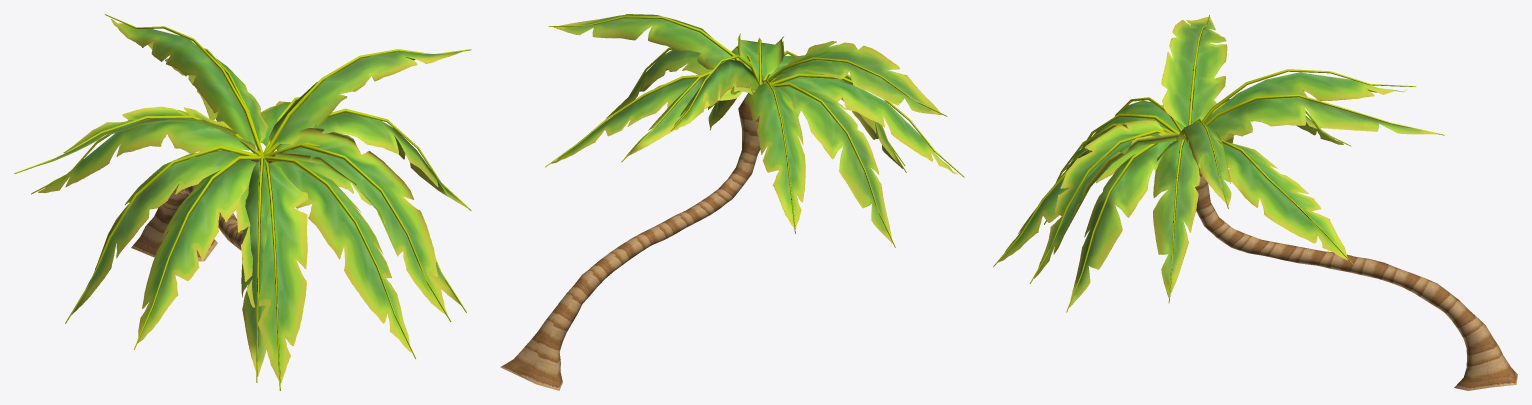
File: SM_PalmTree_var4.fbx
The picture shows the model from 3 angles, left to right: view 1: azimuth 30°, elevation 25°; view 2: azimuth 150°, elevation 25°; view 3: azimuth 270°, elevation 25°; orthographic projection. The views are drawn at different scales.
Visible parts, largest first — view 1: SM_PalmTree_var3; view 2: SM_PalmTree_var3; view 3: SM_PalmTree_var3.
Part boxes in pixels (box(x1,y1,x2,y2)): SM_PalmTree_var3: box(14, 14, 471, 390); SM_PalmTree_var3: box(500, 14, 964, 390); SM_PalmTree_var3: box(993, 14, 1517, 390).
Size of the model in its own units: 447 by 294 by 507.
